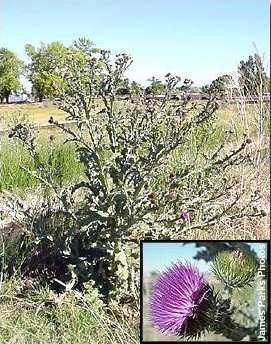thistle: (150, 259, 231, 344)
